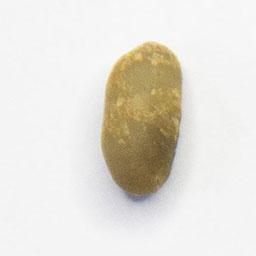peaberry: (96, 37, 187, 200)
